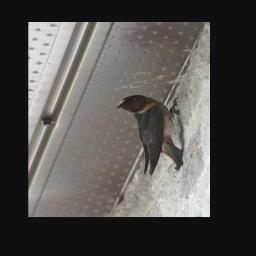Swallow: (117, 94, 187, 175)
